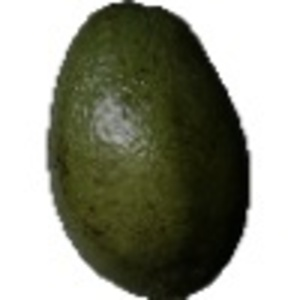abacate: (34, 1, 258, 298)
